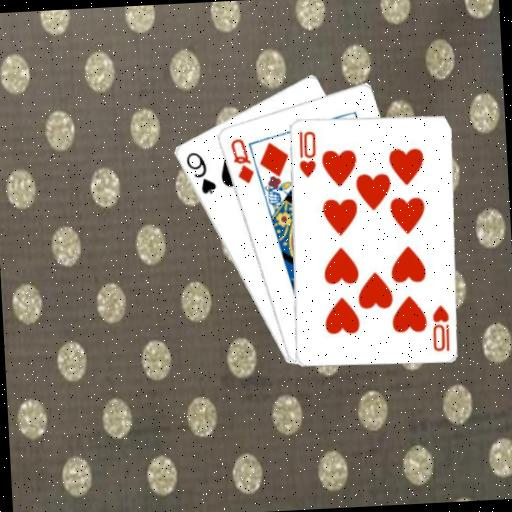10H: (293, 127, 318, 179), (427, 301, 452, 353)
9S: (182, 148, 218, 197)
QD: (226, 134, 256, 186)
